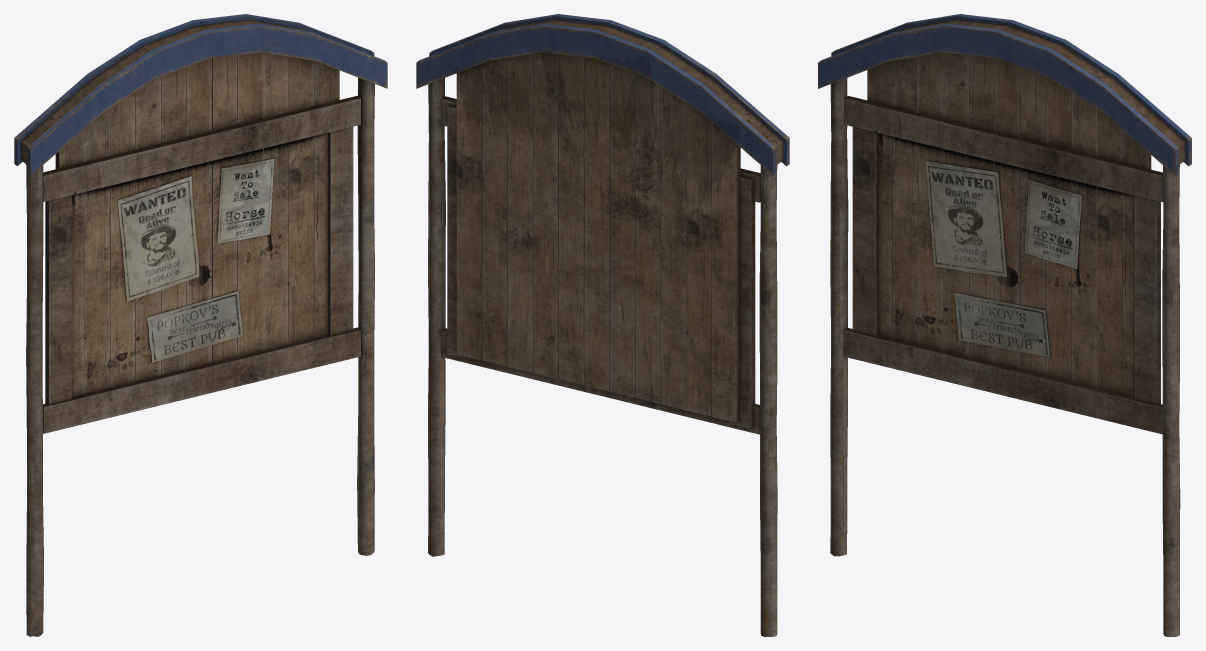
Rendered from old_styled_wooden_info_stand.glb.
3 renders of one model, left to right at view 1: azimuth 30°, elevation 25°; view 2: azimuth 150°, elevation 25°; view 3: azimuth 330°, elevation 25°, orthographic.
Parts seen in each view (by area): view 1: stand_0; view 2: stand_0; view 3: stand_0.
Boxes of the visible parts, bbox=[...] form: stand_0: bbox=[14, 14, 387, 636]; stand_0: bbox=[416, 14, 789, 636]; stand_0: bbox=[818, 14, 1191, 636].
Bounding box in the file's own units: 1.51 × 2.29 × 0.1189.
1 material, 1 textured.
